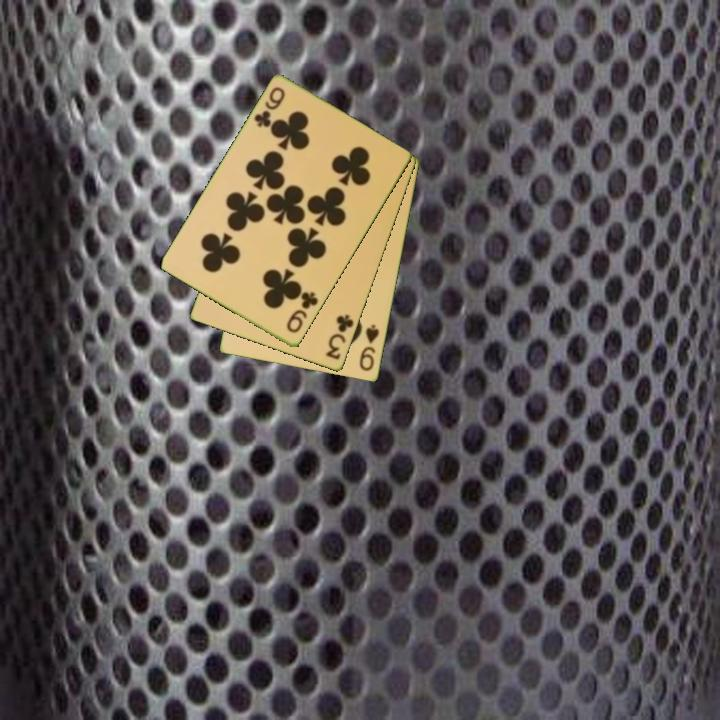3c: (322, 311, 357, 363)
9c: (283, 288, 321, 336), (251, 83, 288, 131)
9s: (356, 321, 382, 374)
